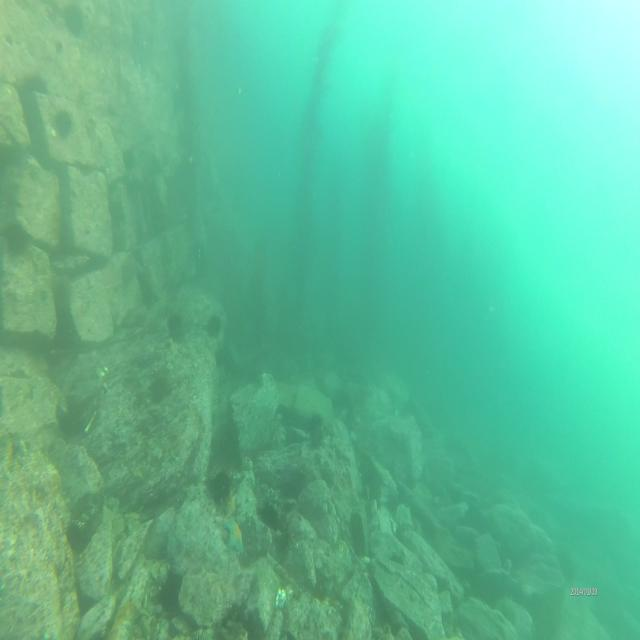echinus: (158, 573, 190, 620), (5, 217, 30, 260), (209, 466, 233, 509), (64, 515, 86, 561), (51, 105, 76, 145), (148, 366, 172, 404), (22, 70, 52, 100), (63, 1, 86, 40), (260, 499, 282, 536), (307, 407, 327, 444), (119, 140, 139, 176), (168, 308, 186, 347), (204, 309, 224, 342)
starfish: (222, 512, 245, 552)
